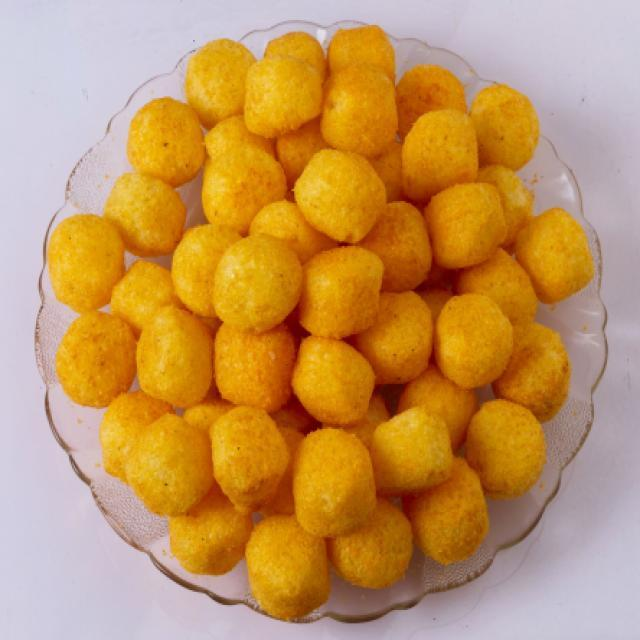Chips packaged: (128, 127, 528, 536)
